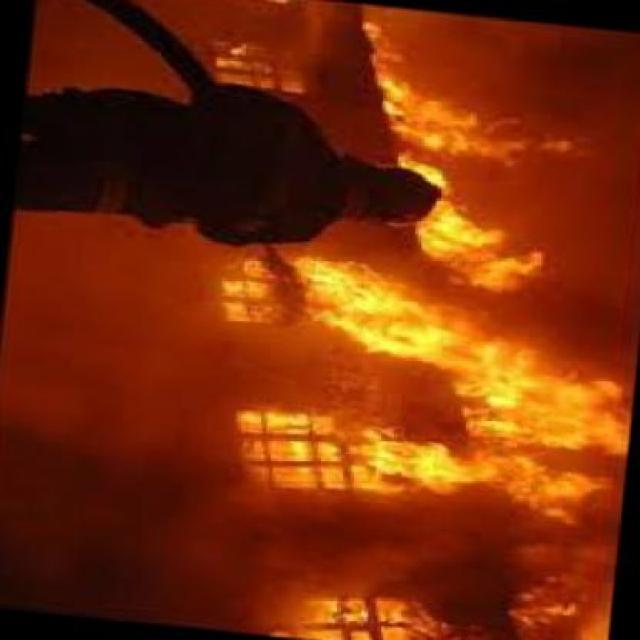Fire: (298, 426, 614, 524), (236, 258, 436, 364), (446, 296, 608, 419), (402, 168, 560, 292), (362, 66, 542, 161), (367, 582, 560, 640)
